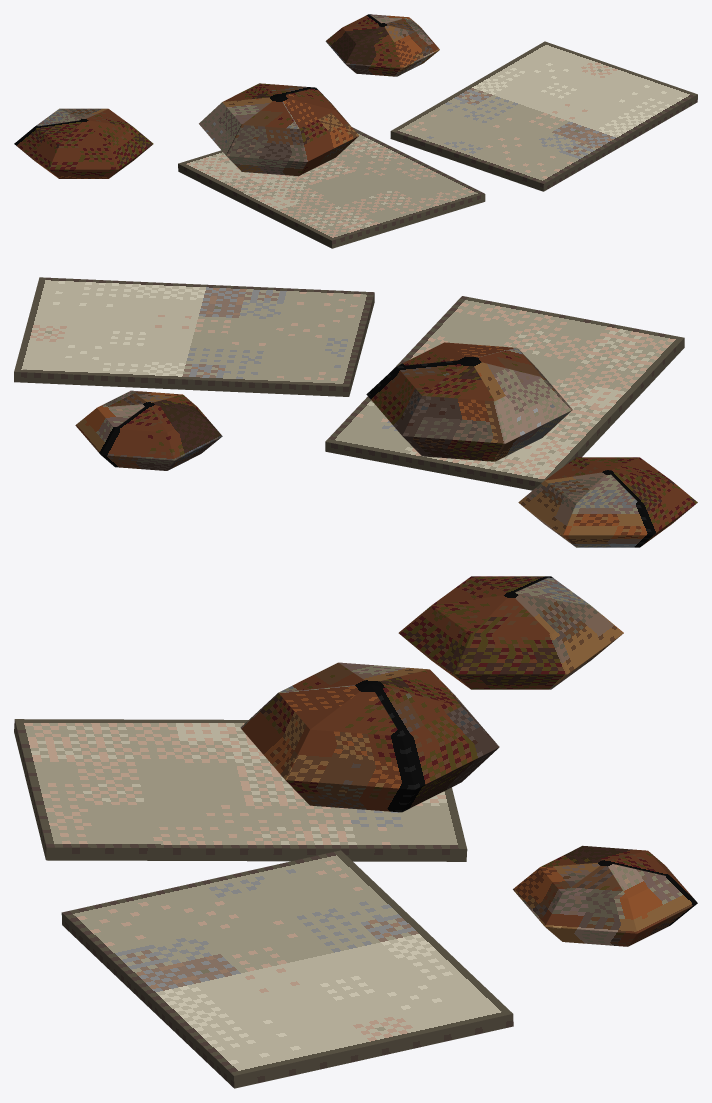
The model's file is SM_Debris_01.glb.
3 renders of one model, top to bottom at view 1: azimuth 30°, elevation 25°; view 2: azimuth 150°, elevation 25°; view 3: azimuth 270°, elevation 25°, orthographic. The views are drawn at different scales.
Parts seen in each view (by area): view 1: SM_Debris_01; view 2: SM_Debris_01; view 3: SM_Debris_01.
Part boxes in pixels (x1=…): SM_Debris_01: x1=14, y1=14, x2=697, y2=248; SM_Debris_01: x1=14, y1=277, x2=697, y2=547; SM_Debris_01: x1=14, y1=576, x2=697, y2=1088.
Bounding box in the file's own units: 0.2301 × 0.0266 × 0.1454.
1 material, 1 textured.
